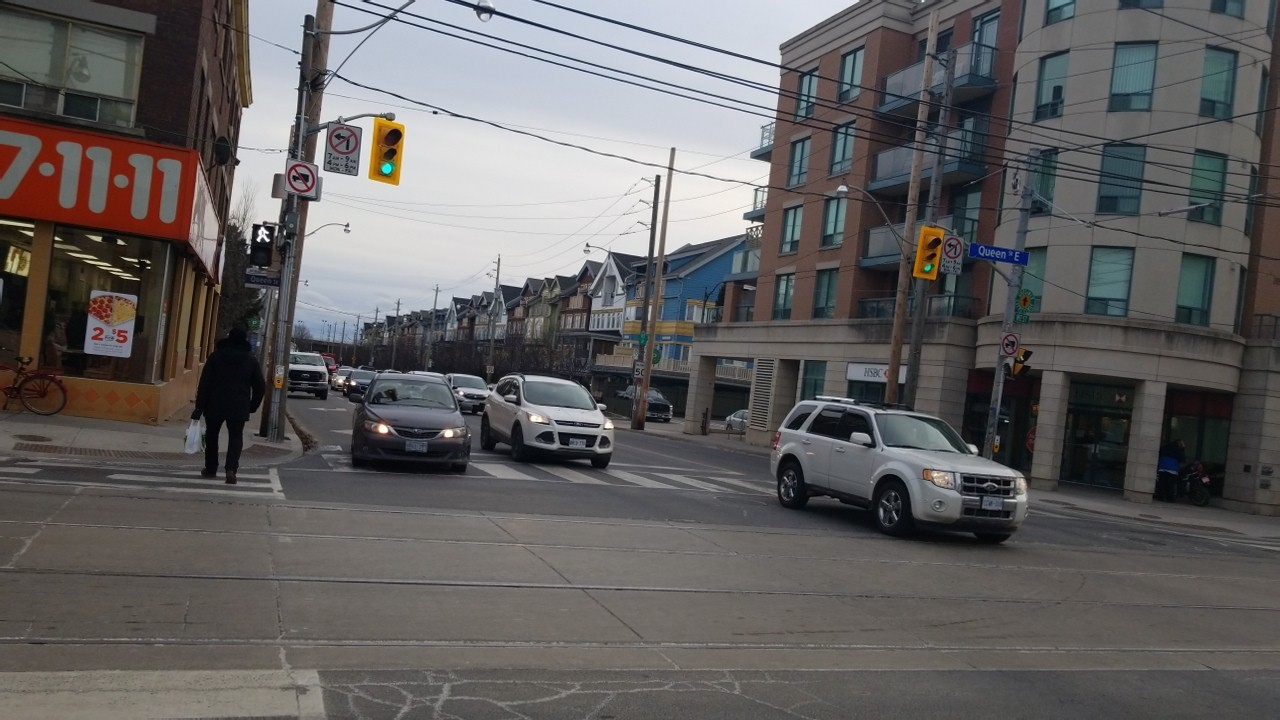light: (246, 217, 280, 273)
